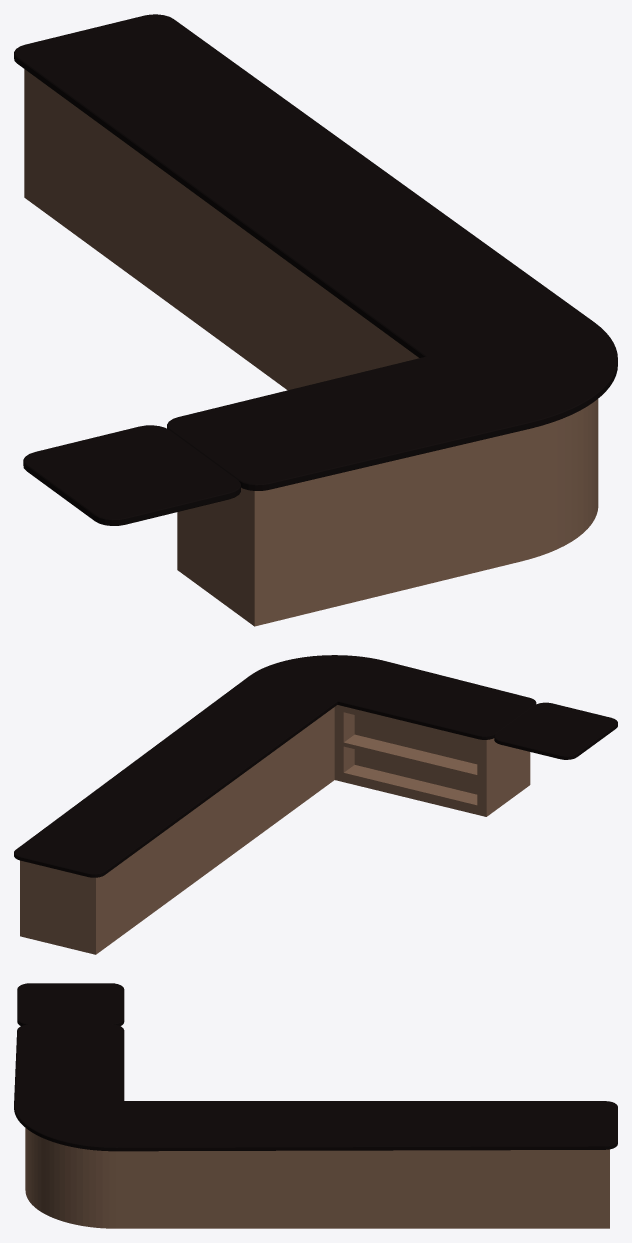
Rendered from arcadeCounter.fbx.
The picture shows the model from 3 angles, top to bottom: view 1: azimuth 30°, elevation 25°; view 2: azimuth 150°, elevation 25°; view 3: azimuth 270°, elevation 25°; orthographic projection. The views are drawn at different scales.
Visible parts, largest first — view 1: Counter, Door; view 2: Counter, Door; view 3: Counter, Door.
Part boxes in pixels (left/top/right/bottom): Counter: left=14, top=14, right=617, bottom=626; Door: left=23, top=425, right=240, bottom=525; Counter: left=14, top=655, right=536, bottom=954; Door: left=494, top=702, right=617, bottom=759; Counter: left=14, top=1024, right=617, bottom=1228; Door: left=17, top=983, right=124, bottom=1025.
Size of the model in its own units: 859 by 210 by 1333.
